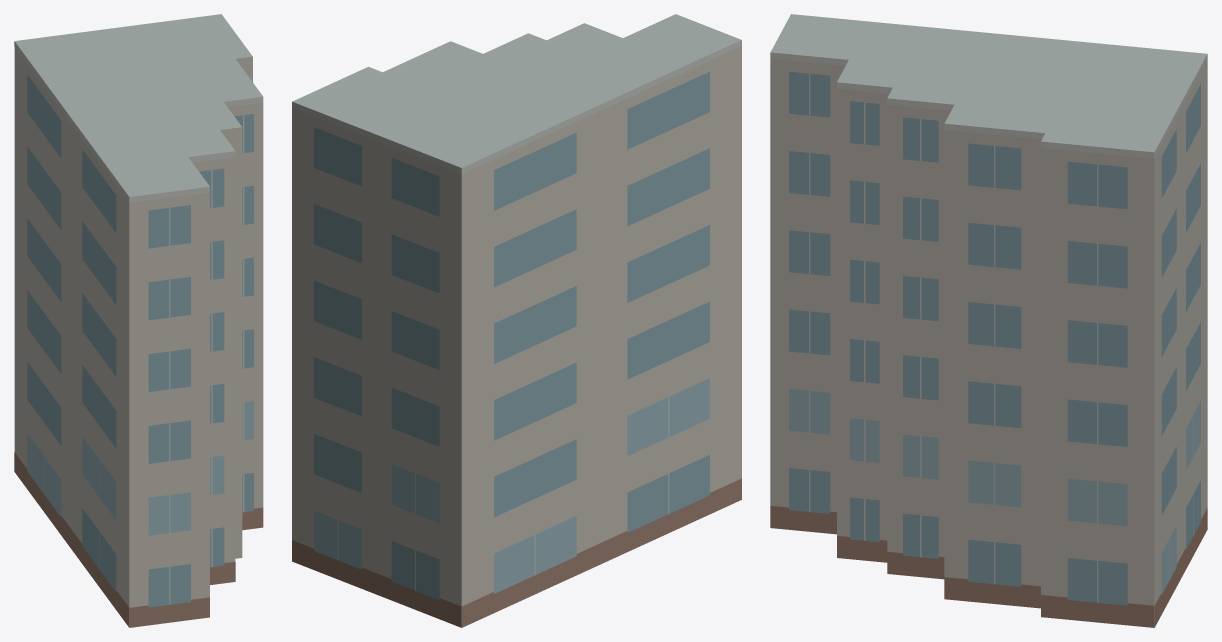
The model's file is survey-upis-32757910.glb.
3 views of the same model, side by side, from view 1: azimuth 30°, elevation 25°; view 2: azimuth 150°, elevation 25°; view 3: azimuth 270°, elevation 25° (orthographic). The views are drawn at different scales.
Parts seen in each view (by area): view 1: survey-upis-32757910.tmp; view 2: survey-upis-32757910.tmp; view 3: survey-upis-32757910.tmp.
Part boxes in pixels (x1,y1,x2,y2): survey-upis-32757910.tmp: (14,14,263,627); survey-upis-32757910.tmp: (292,14,741,627); survey-upis-32757910.tmp: (770,14,1207,627).
Bounding box in the file's own units: 11.42 × 18.3 × 15.26.
